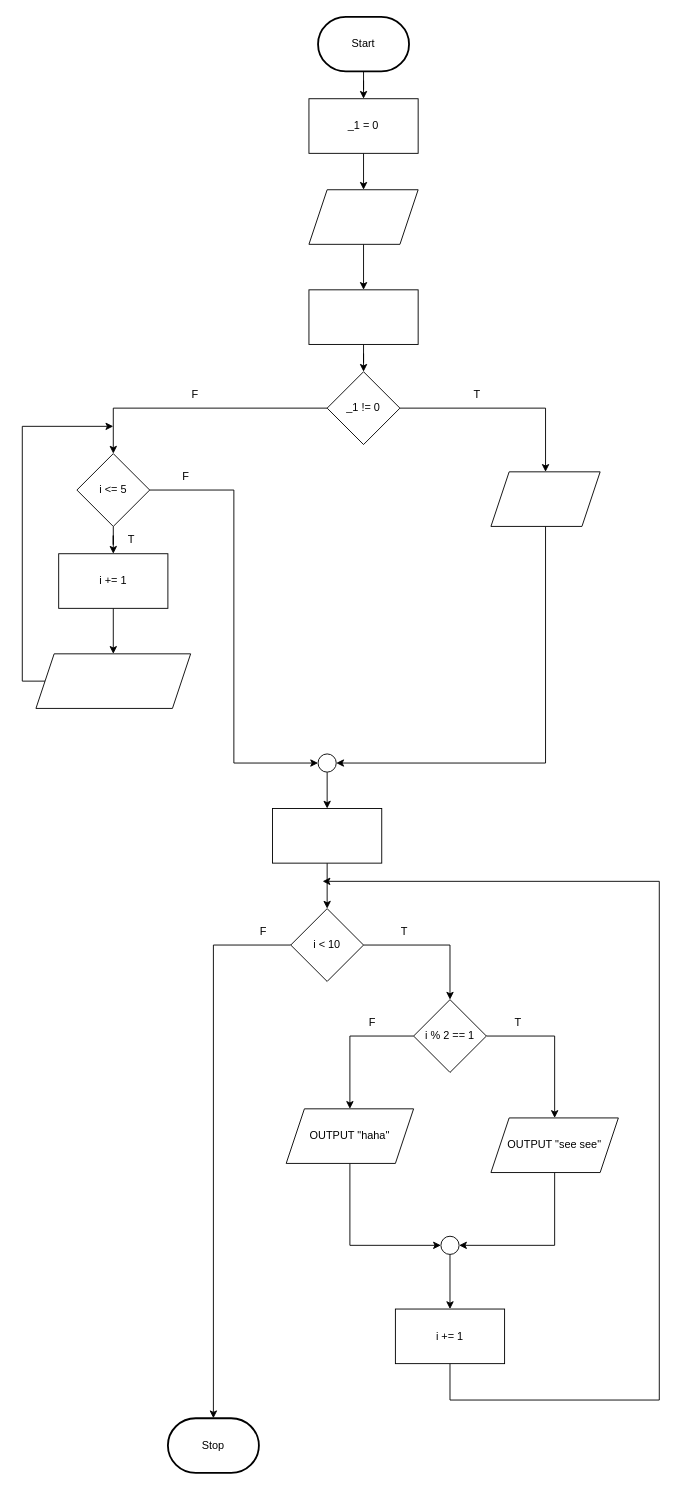
This 683x1489 diagram has some shape labels left out. Each missing label, with the box of its shape:
i = 0: (308, 289, 418, 344)
i = 3: (272, 808, 382, 863)
OUTPUT " not-okey-": (35, 653, 191, 708)
OUTPUT "ok ": (490, 471, 600, 526)
OUTPUT _1: (308, 189, 418, 244)
